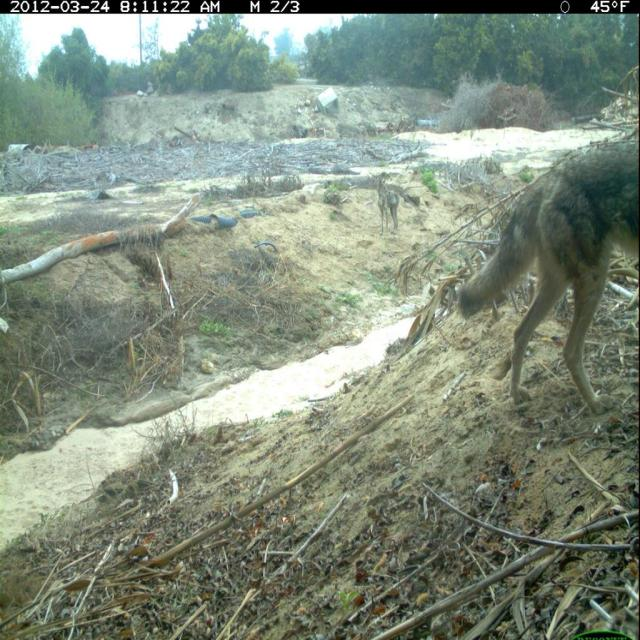coyote: (454, 133, 640, 426), (370, 158, 407, 243)
